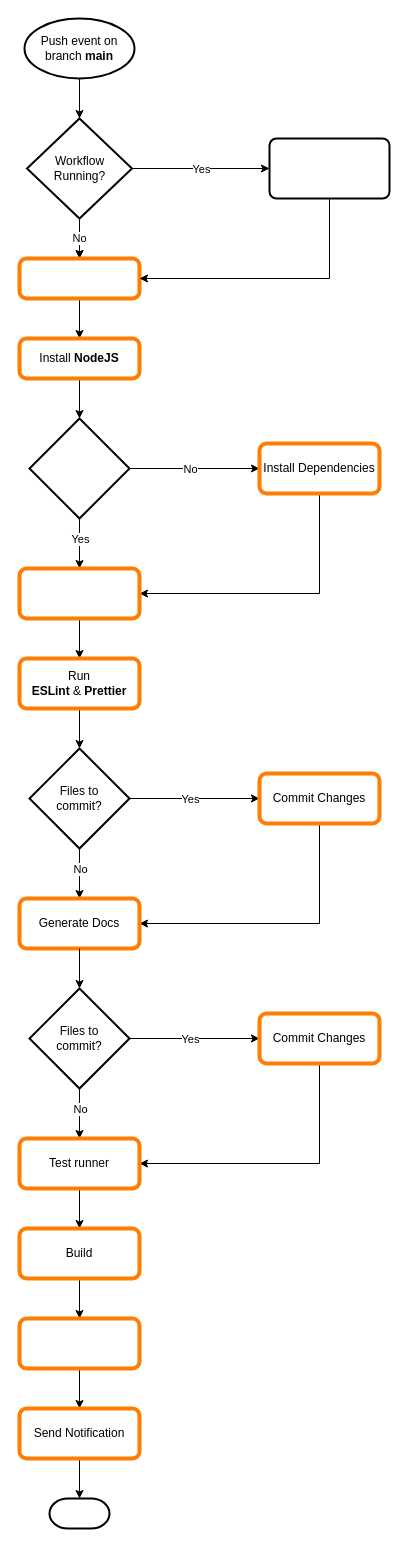
The diagram is 407 pixels wide and 1546 high, and some of its shapes have lost their labels. Here are the shapes that lost their labels. From the top down, the box of each, then its label:
(268, 137, 390, 199): Quit other running instances
(17, 256, 141, 300): Checkout
(28, 417, 130, 519): Cache Dependencies?
(17, 566, 141, 620): Git config
(17, 1316, 141, 1370): Release
(48, 1497, 110, 1529): End
